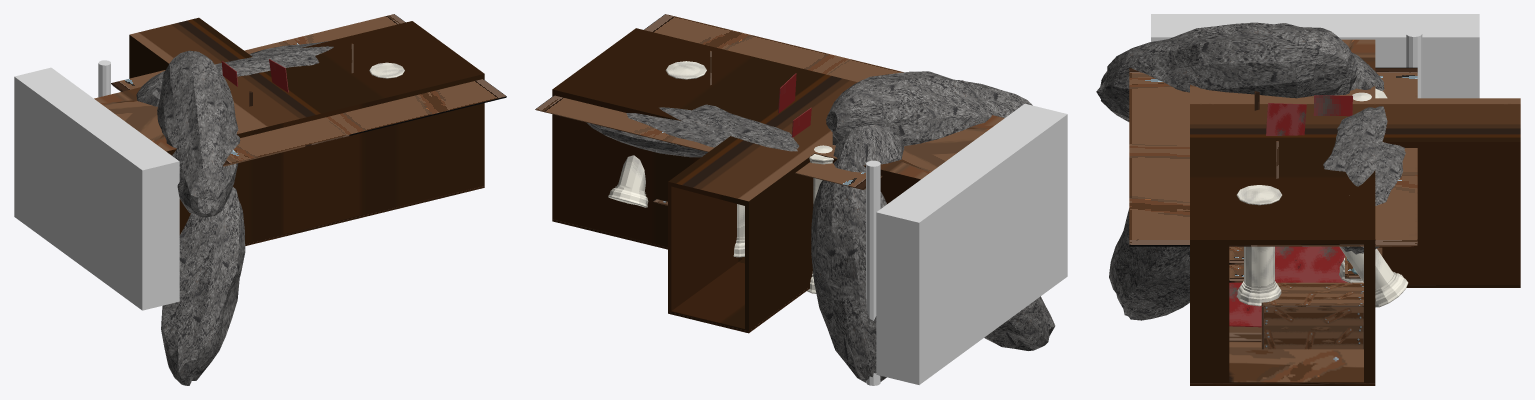
File: shop.glb
3 views of the same model, side by side, from view 1: azimuth 30°, elevation 25°; view 2: azimuth 150°, elevation 25°; view 3: azimuth 270°, elevation 25° (orthographic). The views are drawn at different scales.
Visible parts, largest first — view 1: Cube, Cube.009, Landscape.004, Landscape.001, Cube.016, Landscape.003, Landscape.002, Cylinder.003, Cube.011; view 2: Cube, Cube.009, Landscape.002, Landscape.001, Cube.016, Landscape.003, Landscape.004, Cylinder.003, Cube.012, Cube.011, Cube.013, Cube.006 (+1 smaller); view 3: Cube, Landscape.001, Cube.016, Cube.009, Cube.001, Landscape.004, Landscape.003, Cube.010, Cube.011, Cube.012, Cube.018, Cube.017 (+2 smaller).
Boxes of the visible parts, x1=… form: Cube: x1=94, y1=17, x2=484, y2=245; Cube.009: x1=14, y1=67, x2=179, y2=310; Landscape.004: x1=161, y1=187, x2=245, y2=385; Landscape.001: x1=157, y1=50, x2=240, y2=217; Cube.016: x1=111, y1=14, x2=506, y2=166; Landscape.003: x1=215, y1=41, x2=333, y2=76; Landscape.002: x1=136, y1=71, x2=164, y2=106; Cylinder.003: x1=98, y1=60, x2=110, y2=97; Cube.011: x1=369, y1=62, x2=404, y2=78; Cube: x1=552, y1=28, x2=1004, y2=333; Cube.009: x1=876, y1=103, x2=1067, y2=384; Landscape.002: x1=811, y1=125, x2=904, y2=382; Landscape.001: x1=826, y1=71, x2=1032, y2=146; Cube.016: x1=535, y1=14, x2=903, y2=189; Landscape.003: x1=586, y1=104, x2=799, y2=157; Landscape.004: x1=984, y1=296, x2=1055, y2=350; Cylinder.003: x1=866, y1=160, x2=880, y2=385; Cube.012: x1=608, y1=155, x2=648, y2=207; Cube.011: x1=665, y1=61, x2=706, y2=79; Cube.013: x1=807, y1=145, x2=833, y2=293; Cube.006: x1=733, y1=204, x2=744, y2=257; Cube: x1=1190, y1=39, x2=1520, y2=385; Landscape.001: x1=1096, y1=22, x2=1357, y2=121; Cube.016: x1=1129, y1=67, x2=1417, y2=246; Cube.009: x1=1151, y1=14, x2=1479, y2=98; Cube.001: x1=1261, y1=282, x2=1363, y2=349; Landscape.004: x1=1109, y1=208, x2=1189, y2=320; Landscape.003: x1=1323, y1=106, x2=1405, y2=254; Cube.010: x1=1229, y1=246, x2=1347, y2=327; Cube.011: x1=1236, y1=185, x2=1282, y2=306; Cube.012: x1=1339, y1=246, x2=1408, y2=307; Cube.018: x1=1266, y1=103, x2=1306, y2=135; Cube.017: x1=1313, y1=95, x2=1352, y2=116.
Size of the model in its own units: 28.49 by 19.89 by 22.86.
8 materials, 8 textured.
